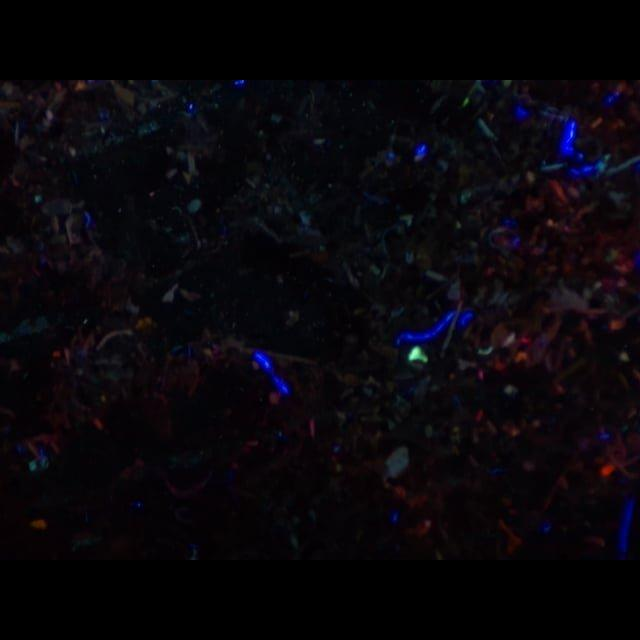microbeads: (407, 345, 429, 363)
